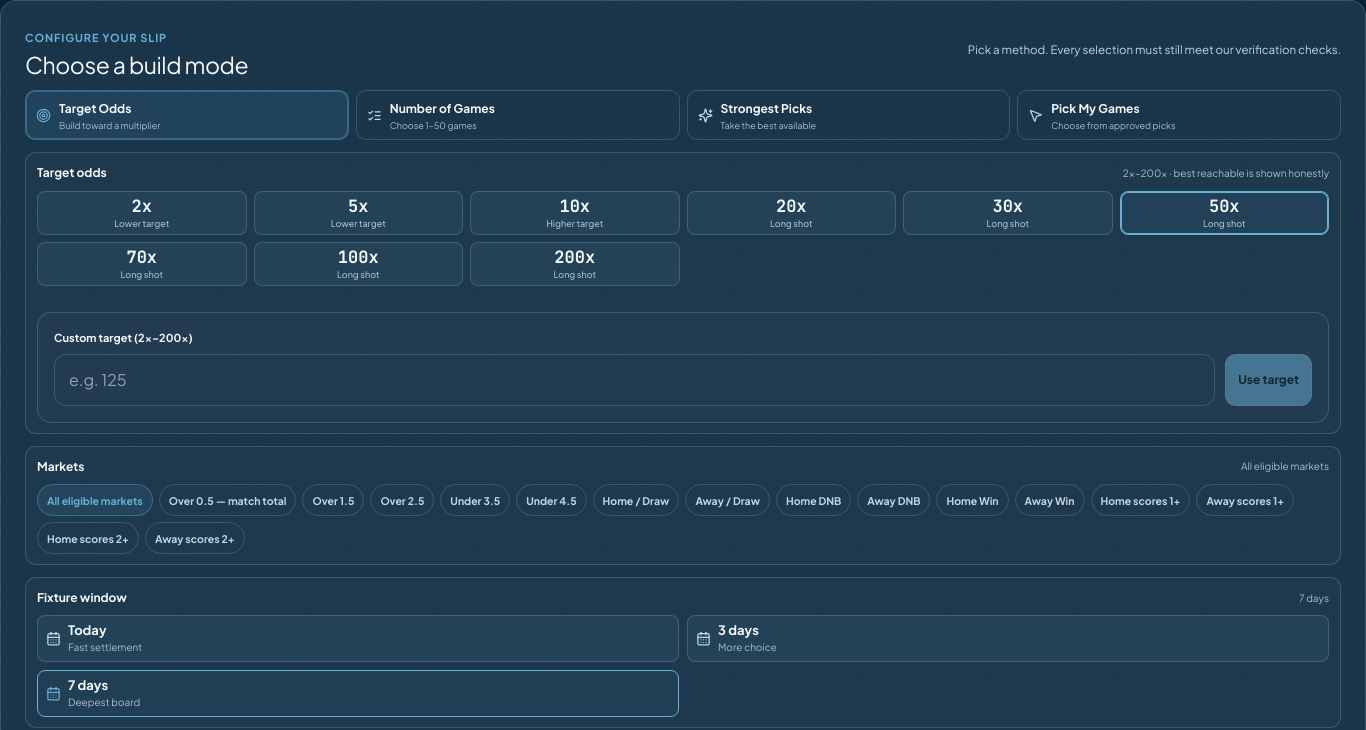
fill strategy is shown only when game count has selected markets
Expected: the element "fill strategy" is not shown
Click the button "Number of Games Choose 1–50 games".
click(442, 109)  # box [356,90,680,140]
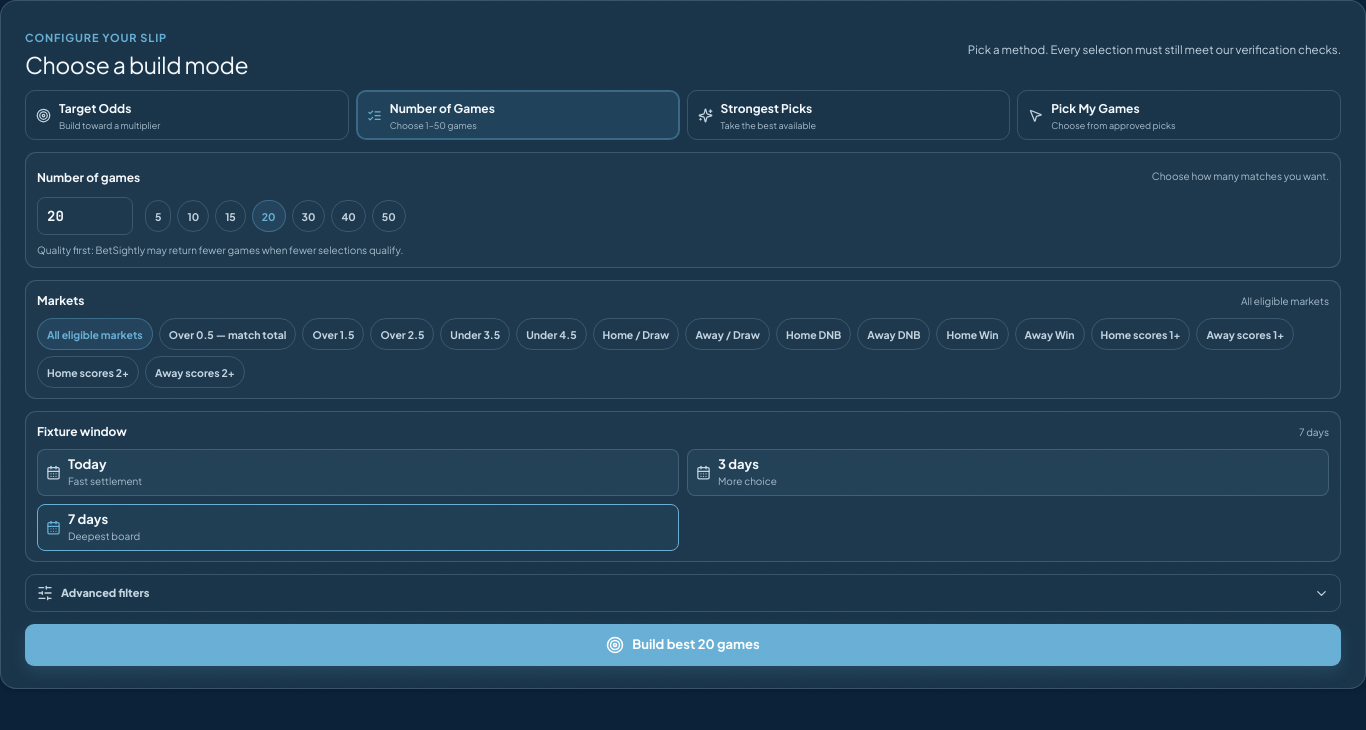
Expected: the element "fill strategy" is not shown
Click the button "Home Win".
click(973, 334)  # box [936,318,1009,350]
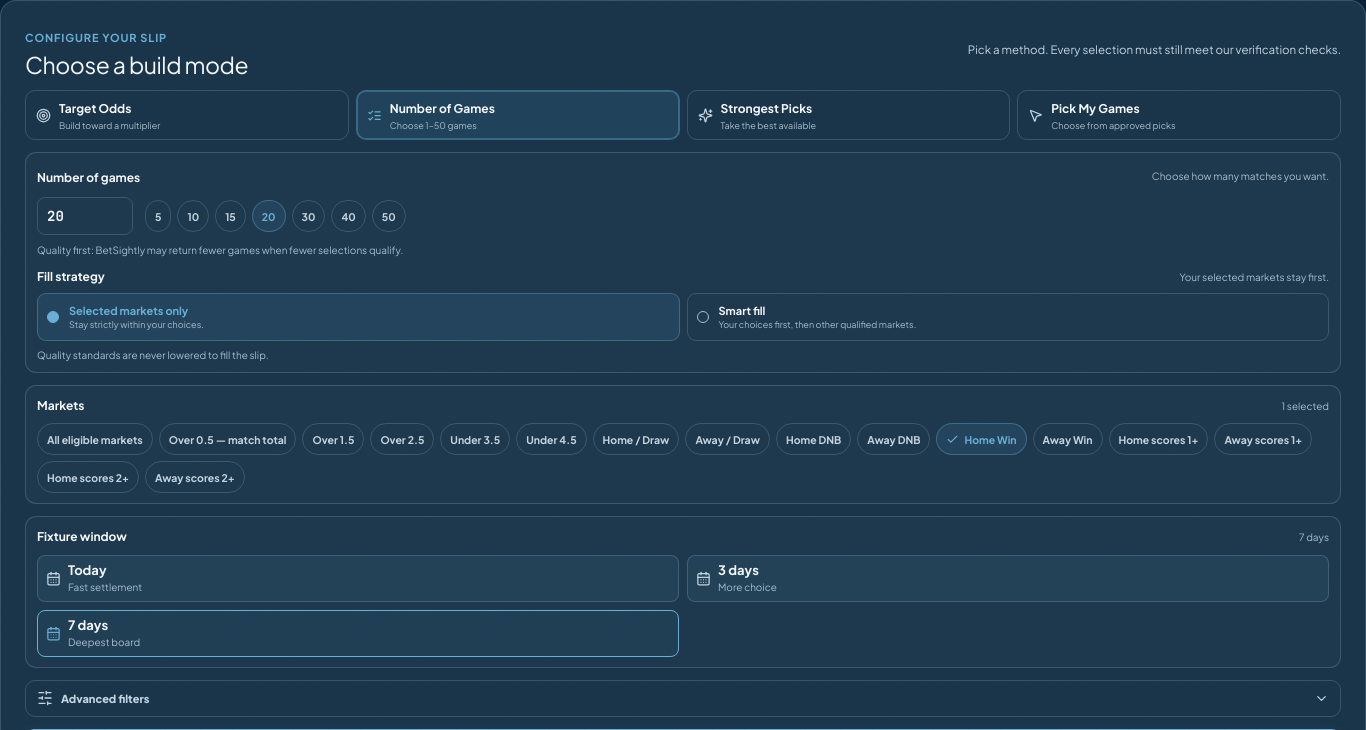
Expected: the element named "fill strategy" is shown, [37,293,1329,341]
